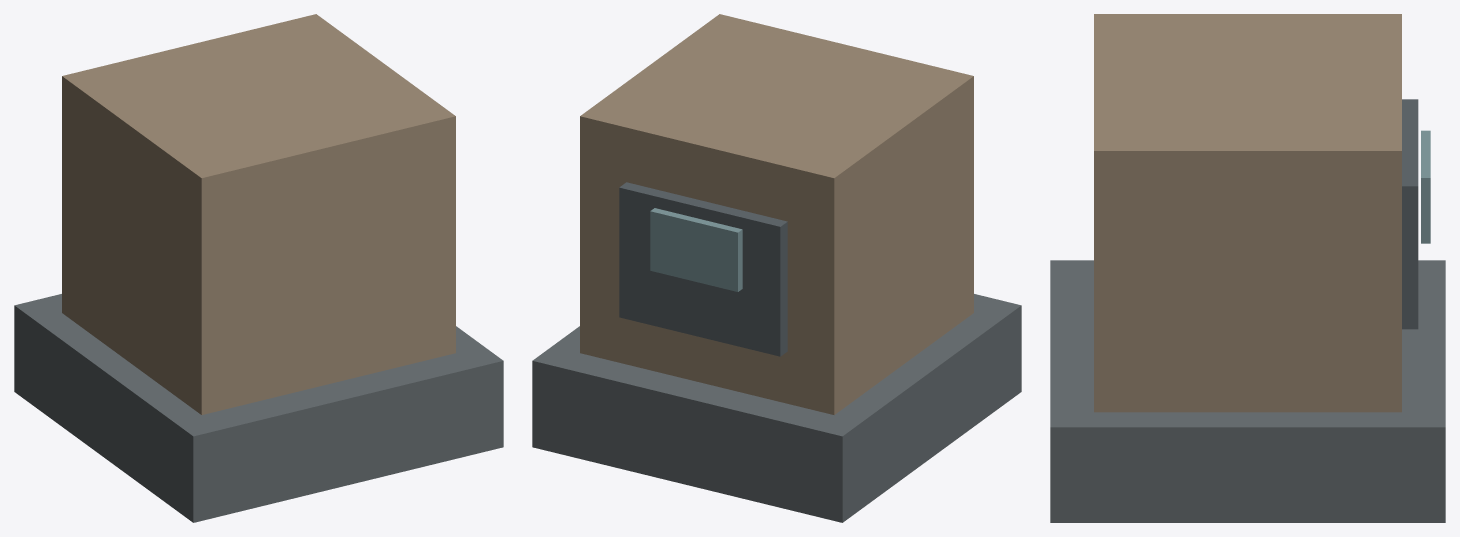
Rendered from iz3_production_compost_02.glb.
The picture shows the model from 3 angles, left to right: view 1: azimuth 30°, elevation 25°; view 2: azimuth 150°, elevation 25°; view 3: azimuth 270°, elevation 25°; orthographic projection. The views are drawn at different scales.
Visible parts, largest first — view 1: cabinet, base; view 2: cabinet, base, panel, display; view 3: cabinet, base, panel, display.
Part boxes in pixels (box(x1,y1,x2,y2)): cabinet: box(62, 14, 455, 414); base: box(14, 294, 503, 522); cabinet: box(580, 14, 973, 414); base: box(532, 294, 1021, 522); panel: box(619, 182, 787, 356); display: box(650, 208, 742, 291); cabinet: box(1094, 14, 1401, 412); base: box(1050, 260, 1445, 522); panel: box(1402, 99, 1418, 329); display: box(1421, 130, 1430, 243).
Bounding box in the file's own units: 1.2 × 1.2 × 1.2.
